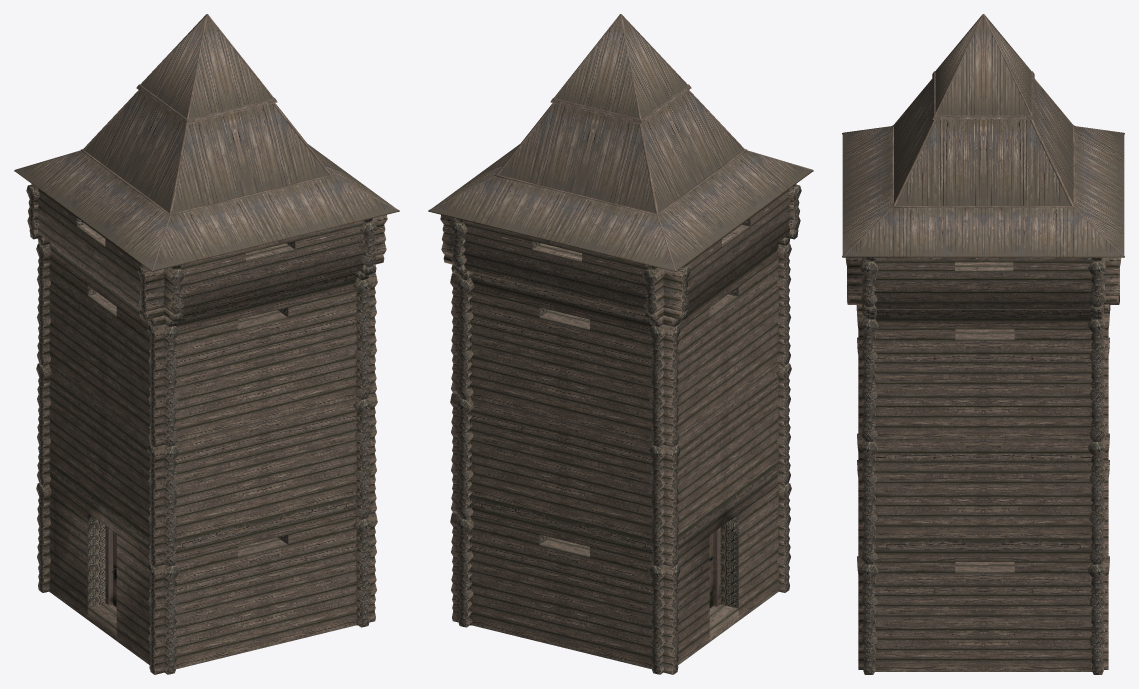
The model's file is house_6.fbx.
3 renders of one model, left to right at view 1: azimuth 30°, elevation 25°; view 2: azimuth 150°, elevation 25°; view 3: azimuth 270°, elevation 25°, orthographic. The views are drawn at different scales.
Visible parts, largest first — view 1: Object005; view 2: Object005; view 3: Object005.
Boxes of the visible parts, bbox=[...] form: Object005: bbox=[14, 14, 399, 674]; Object005: bbox=[428, 14, 813, 674]; Object005: bbox=[842, 14, 1124, 674].
Bounding box in the file's own units: 796 × 1813 × 768.
1 material, 1 textured.
